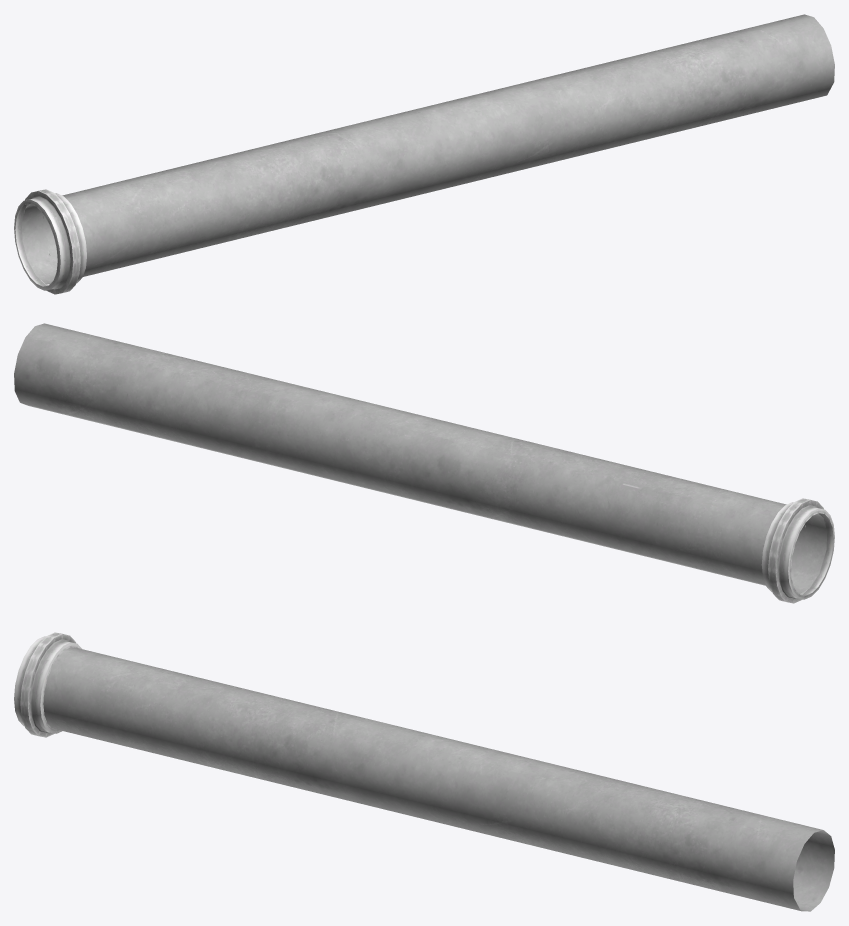
Rendered from SM_Pipes_03b.glb.
3 views of the same model, one above another, from view 1: azimuth 30°, elevation 25°; view 2: azimuth 150°, elevation 25°; view 3: azimuth 330°, elevation 25° (orthographic).
Visible parts, largest first — view 1: SM_Pipes_03b; view 2: SM_Pipes_03b; view 3: SM_Pipes_03b.
Part boxes in pixels (<box>): SM_Pipes_03b: <box>14,14,834,294</box>; SM_Pipes_03b: <box>14,323,834,603</box>; SM_Pipes_03b: <box>14,632,834,911</box>.
Size of the model in its own units: 1.5 by 0.1773 by 0.1773.
1 material, 1 textured.
